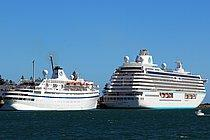Ship: (100, 48, 209, 114), (2, 54, 102, 114)
